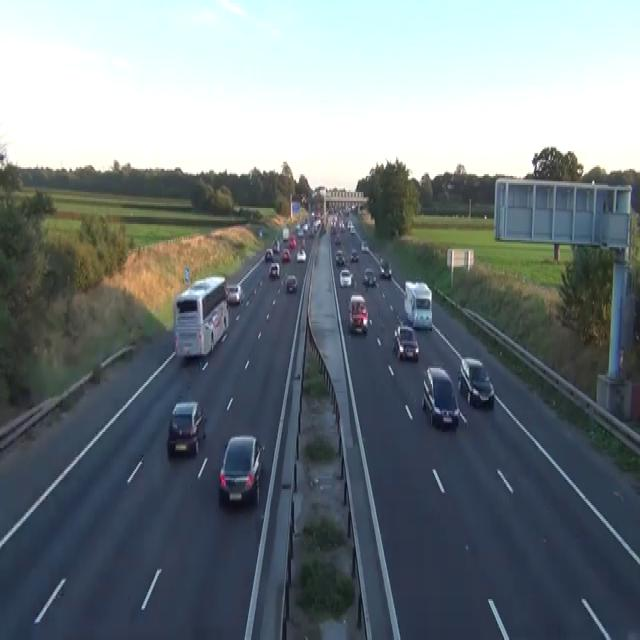Car: (218, 434, 265, 505), (421, 366, 459, 428), (167, 400, 206, 457), (457, 356, 494, 407), (393, 323, 419, 361), (348, 294, 368, 332), (227, 283, 243, 304), (363, 267, 376, 286), (339, 268, 352, 286), (379, 260, 391, 279), (285, 274, 297, 292), (269, 262, 280, 278), (335, 249, 345, 265), (296, 247, 306, 261), (281, 247, 291, 261), (264, 247, 273, 261), (350, 247, 358, 261), (272, 238, 279, 252), (288, 235, 296, 247), (313, 219, 321, 231), (361, 240, 368, 252), (300, 192, 307, 204), (446, 182, 455, 190), (281, 237, 288, 247), (334, 234, 341, 243), (347, 219, 353, 229), (351, 202, 357, 212), (297, 228, 304, 236), (350, 224, 354, 233), (258, 228, 262, 236)
Truck: (172, 274, 229, 359), (404, 279, 432, 331)
